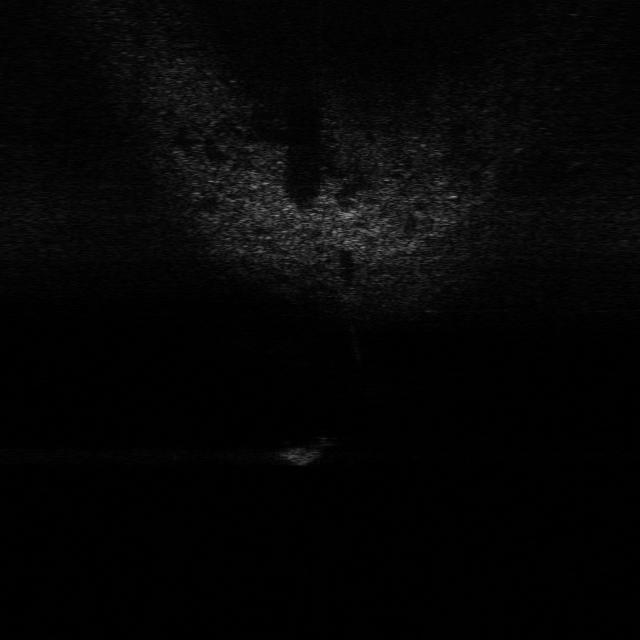cube: (334, 286, 364, 307)
square cage: (273, 435, 332, 469)
